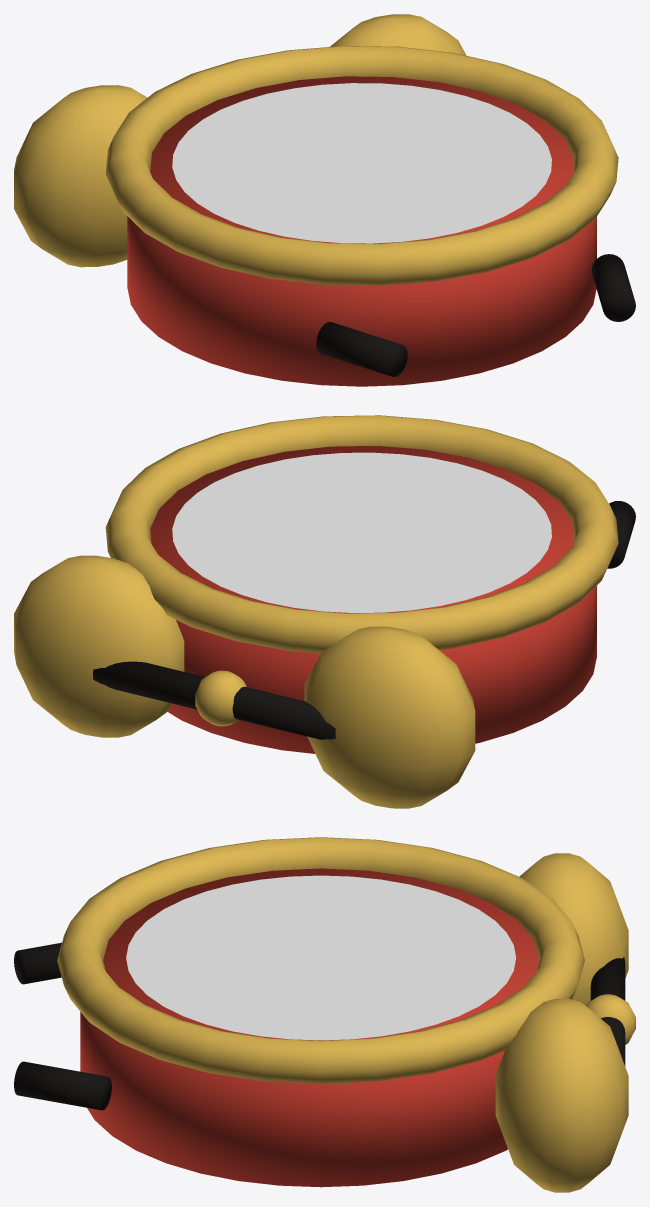
Rendered from kc_despertador.glb.
The picture shows the model from 3 angles, top to bottom: view 1: azimuth 30°, elevation 25°; view 2: azimuth 150°, elevation 25°; view 3: azimuth 270°, elevation 25°; orthographic projection. The views are drawn at different scales.
Visible parts, largest first — view 1: Cylinder, screen, Torus, Sphere, Sphere.001, Cylinder.002, Cylinder.004; view 2: screen, Torus, Cylinder, Sphere, Sphere.001, Cylinder.005, Sphere.002, Cylinder.002; view 3: screen, Cylinder, Torus, Sphere.001, Sphere, Cylinder.004, Cylinder.005, Cylinder.002, Sphere.002.
Part boxes in pixels (bbox=[...]): Cylinder: bbox=[127, 76, 596, 386]; screen: bbox=[172, 83, 551, 243]; Torus: bbox=[105, 46, 618, 285]; Sphere: bbox=[14, 85, 147, 267]; Sphere.001: bbox=[330, 14, 466, 55]; Cylinder.002: bbox=[316, 322, 407, 376]; Cylinder.004: bbox=[591, 254, 635, 321]; screen: bbox=[172, 452, 551, 612]; Torus: bbox=[105, 415, 618, 653]; Cylinder: bbox=[150, 446, 596, 753]; Sphere: bbox=[304, 626, 475, 808]; Sphere.001: bbox=[14, 555, 184, 737]; Cylinder.005: bbox=[93, 661, 335, 739]; Sphere.002: bbox=[195, 670, 246, 726]; Cylinder.002: bbox=[607, 501, 635, 568]; screen: bbox=[126, 875, 515, 1040]; Cylinder: bbox=[80, 868, 538, 1187]; Torus: bbox=[57, 837, 584, 1083]; Sphere.001: bbox=[495, 998, 628, 1192]; Sphere: bbox=[519, 853, 628, 1005]; Cylinder.004: bbox=[14, 1061, 111, 1110]; Cylinder.005: bbox=[590, 957, 625, 1066]; Cylinder.002: bbox=[14, 942, 61, 984]; Sphere.002: bbox=[586, 994, 635, 1044].
Bounding box in the file's own units: 0.9232 × 0.34 × 1.08.
